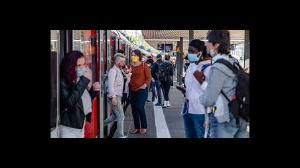mask_weared_incorrect: (203, 40, 216, 55)
with_mask: (76, 62, 86, 76), (186, 49, 199, 59), (117, 59, 125, 67), (130, 54, 139, 61), (183, 59, 190, 66), (141, 56, 146, 61), (147, 62, 151, 67)
